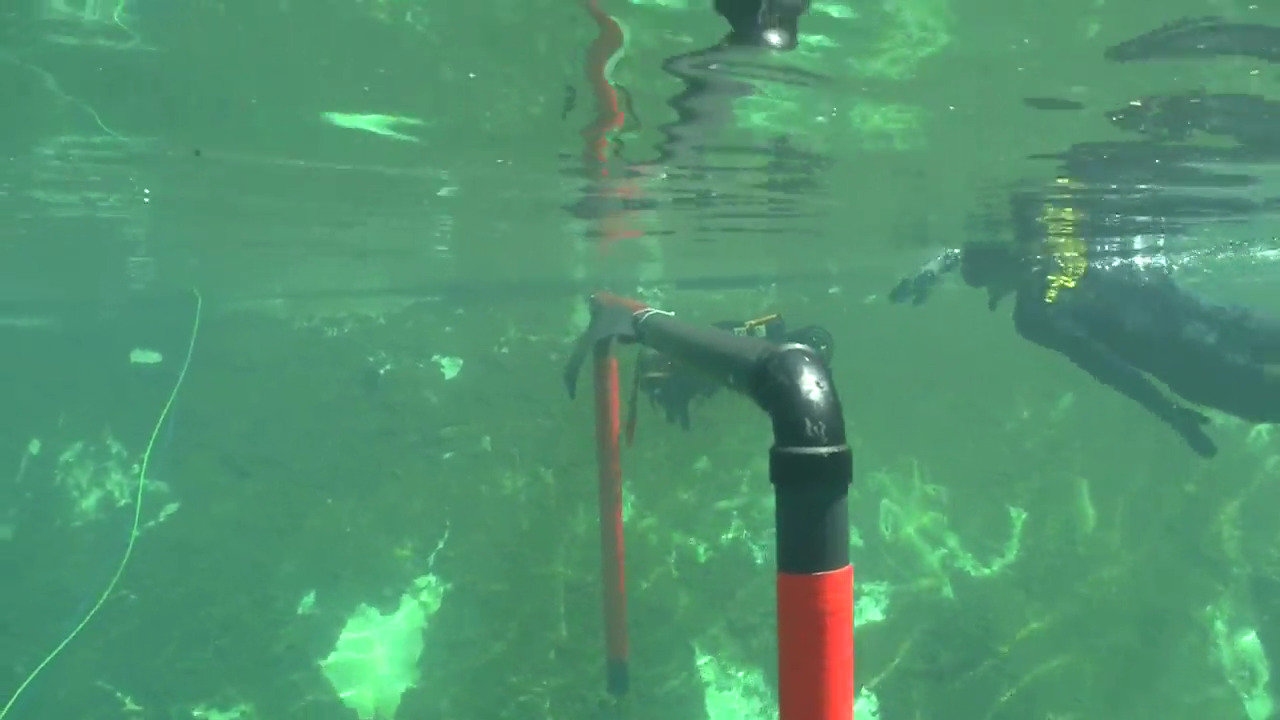gate: (568, 277, 870, 720)
